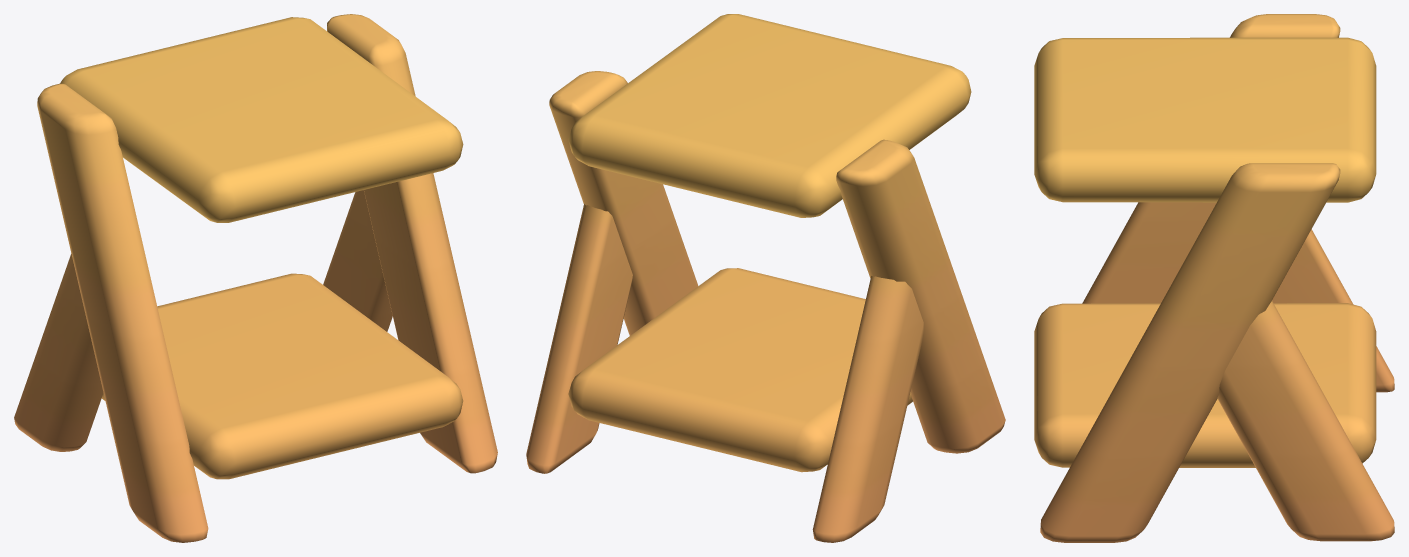
File: Nightstand_13.glb
3 renders of one model, left to right at view 1: azimuth 30°, elevation 25°; view 2: azimuth 150°, elevation 25°; view 3: azimuth 270°, elevation 25°, orthographic. The views are drawn at different scales.
Parts seen in each view (by area): view 1: Nightstand_13; view 2: Nightstand_13; view 3: Nightstand_13.
Part boxes in pixels (x1=…): Nightstand_13: x1=14, y1=14, x2=497, y2=542; Nightstand_13: x1=526, y1=14, x2=1005, y2=542; Nightstand_13: x1=1034, y1=14, x2=1394, y2=542.
Bounding box in the file's own units: 0.566 × 0.5712 × 0.5058.
Materials: 1 (1 with a texture image).
